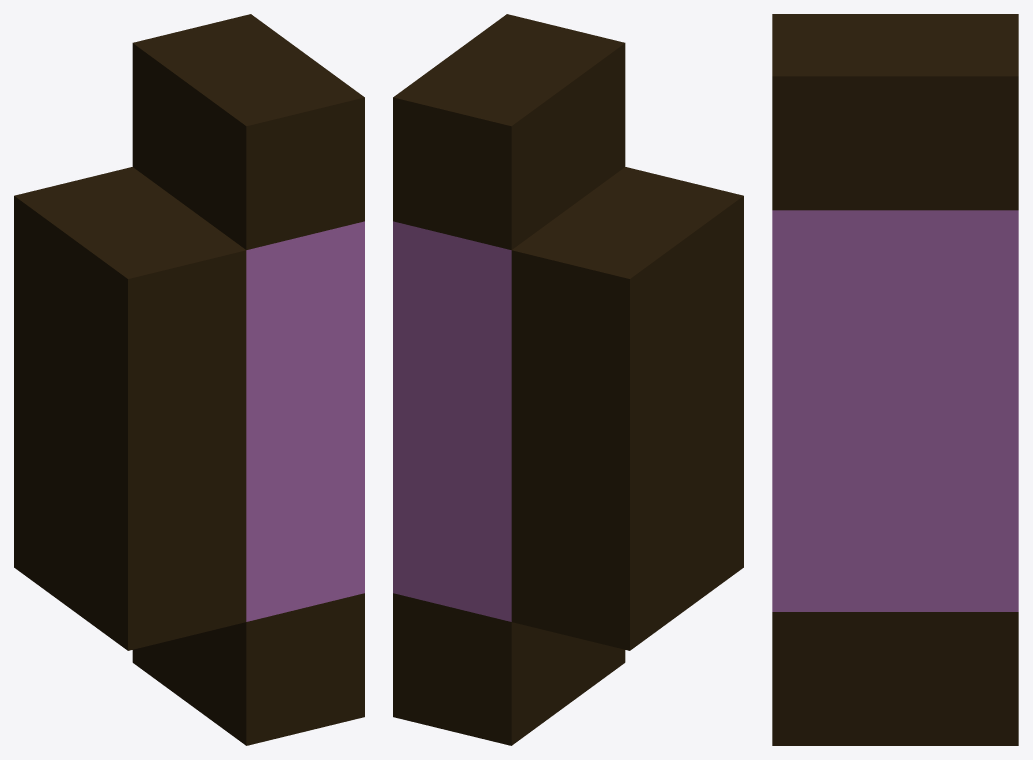
File: slider_left.fbx
3 renders of one model, left to right at view 1: azimuth 30°, elevation 25°; view 2: azimuth 150°, elevation 25°; view 3: azimuth 270°, elevation 25°, orthographic. The views are drawn at different scales.
Visible parts, largest first — view 1: Box003, Object003; view 2: Box003, Object003; view 3: Object003, Box003.
Boxes of the visible parts, <box> form: Box003: <box>14,14,364,745</box>; Object003: <box>246,221,364,621</box>; Box003: <box>393,14,743,745</box>; Object003: <box>393,221,511,621</box>; Object003: <box>772,210,1018,611</box>; Box003: <box>772,14,1018,745</box>.
Bounding box in the file's own units: 6 × 15 × 5.
